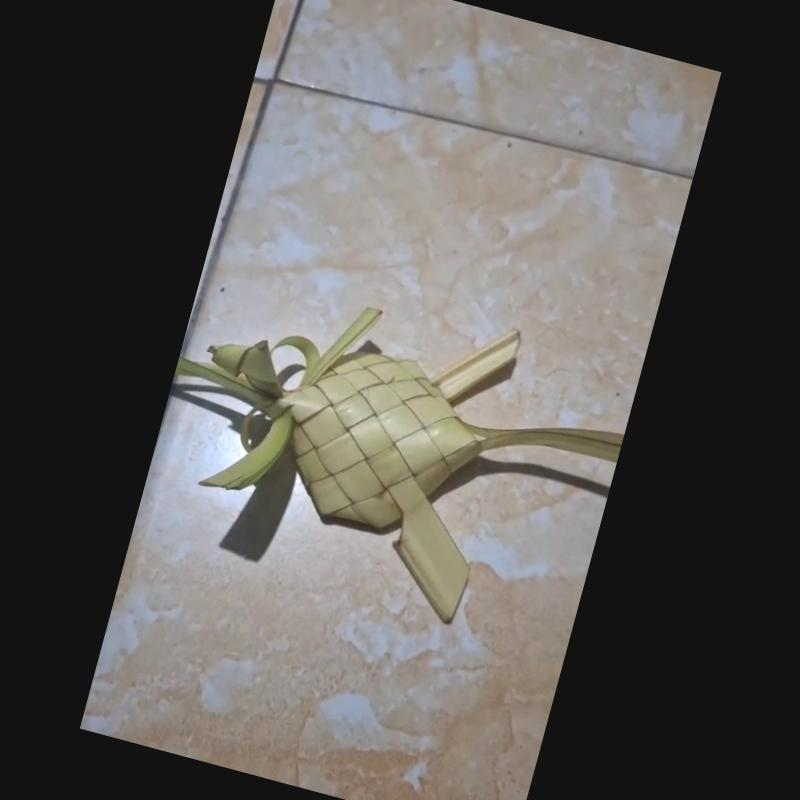Tipat Dampulan: (173, 311, 626, 630)
